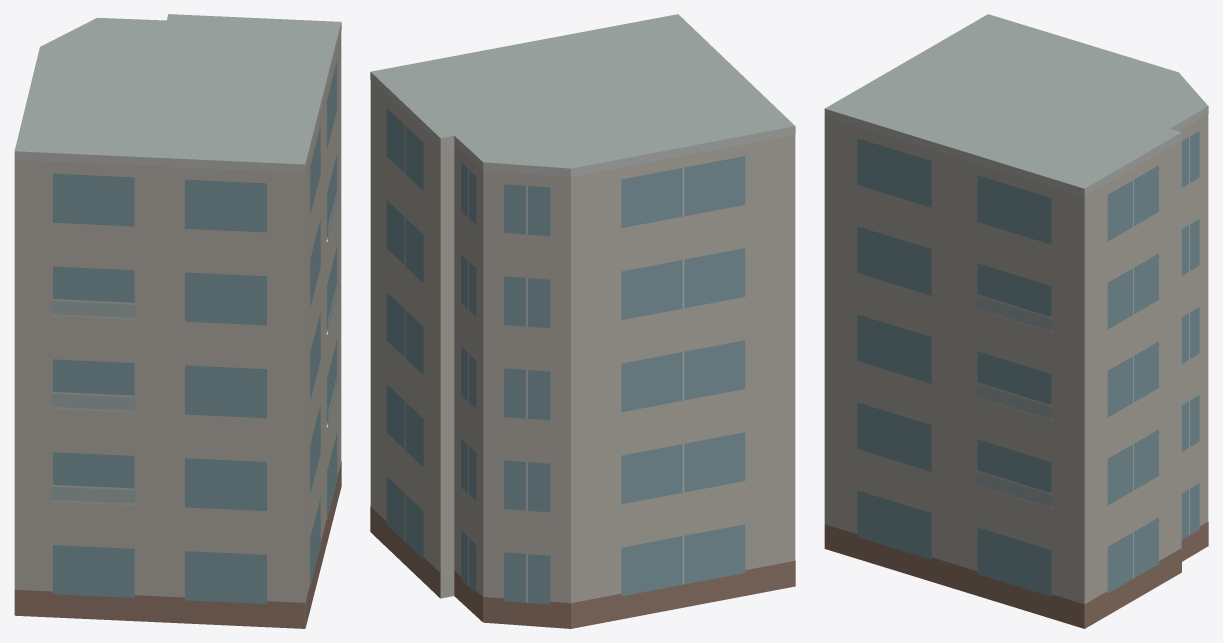
Rendered from survey-upis-32526528.glb.
The picture shows the model from 3 angles, left to right: view 1: azimuth 30°, elevation 25°; view 2: azimuth 150°, elevation 25°; view 3: azimuth 270°, elevation 25°; orthographic projection. The views are drawn at different scales.
Visible parts, largest first — view 1: survey-upis-32526528.tmp; view 2: survey-upis-32526528.tmp; view 3: survey-upis-32526528.tmp.
Part boxes in pixels (box(x1,y1,x2,y2)): survey-upis-32526528.tmp: box(14, 14, 341, 628); survey-upis-32526528.tmp: box(370, 14, 795, 628); survey-upis-32526528.tmp: box(824, 14, 1208, 628).
Size of the model in its own units: 11.42 by 13.4 by 10.6.
